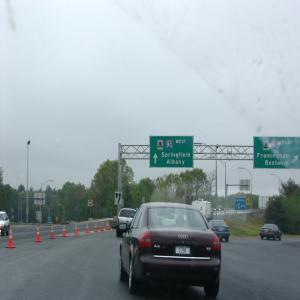Vehicle-registration-plate: (176, 247, 191, 256)
